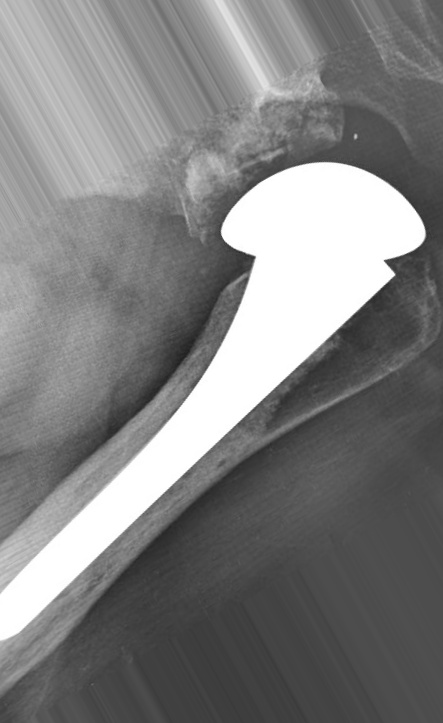Shoulder - Anotomyhead - Stryker: (213, 153, 427, 346)
Shoulder - Anotomytail - Stryker: (191, 208, 407, 445)
